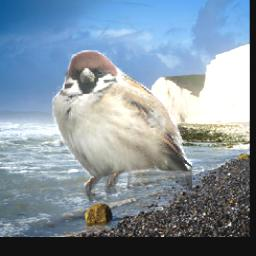Sparrow: (52, 50, 192, 202)
